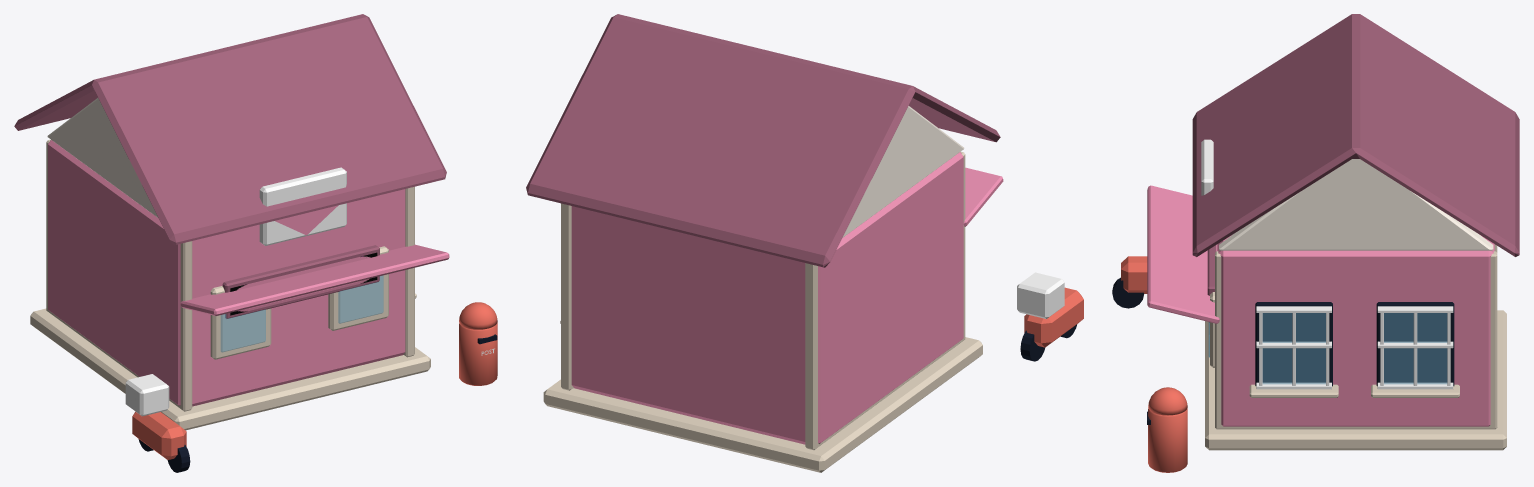
File: town-post.glb
3 views of the same model, side by side, from view 1: azimuth 30°, elevation 25°; view 2: azimuth 150°, elevation 25°; view 3: azimuth 270°, elevation 25° (orthographic). The views are drawn at different scales.
Visible parts, largest first — view 1: BODY_Post; view 2: BODY_Post; view 3: BODY_Post.
Boxes of the visible parts, x1=… form: BODY_Post: x1=14, y1=14, x2=497, y2=472; BODY_Post: x1=526, y1=14, x2=1083, y2=472; BODY_Post: x1=1112, y1=14, x2=1519, y2=472.
Size of the model in its own units: 8.45 by 6.84 by 8.22.
Materials: 10 (1 with a texture image).
